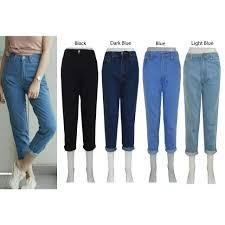pants: (0, 53, 59, 159), (142, 47, 185, 156), (56, 48, 101, 152), (183, 46, 222, 160), (101, 49, 142, 153)
